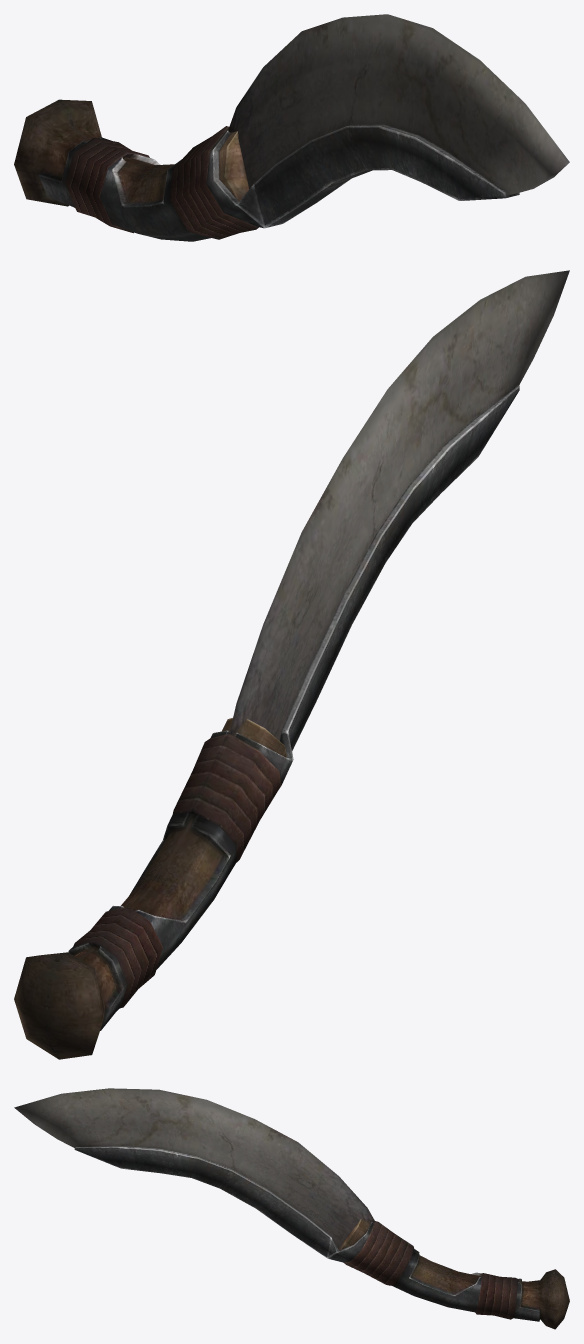
The model's file is FangBlade.obj.
3 views of the same model, one above another, from view 1: azimuth 30°, elevation 25°; view 2: azimuth 150°, elevation 25°; view 3: azimuth 270°, elevation 25° (orthographic). The views are drawn at different scales.
Visible parts, largest first — view 1: Model_FangBlade; view 2: Model_FangBlade; view 3: Model_FangBlade.
Part boxes in pixels (box(x1,y1,x2,y2)): Model_FangBlade: box(14, 14, 569, 241); Model_FangBlade: box(14, 270, 569, 1059); Model_FangBlade: box(14, 1088, 569, 1329).
Size of the model in its own units: 0.048 by 0.2316 by 0.4874.
Materials: 1 (1 with a texture image).
